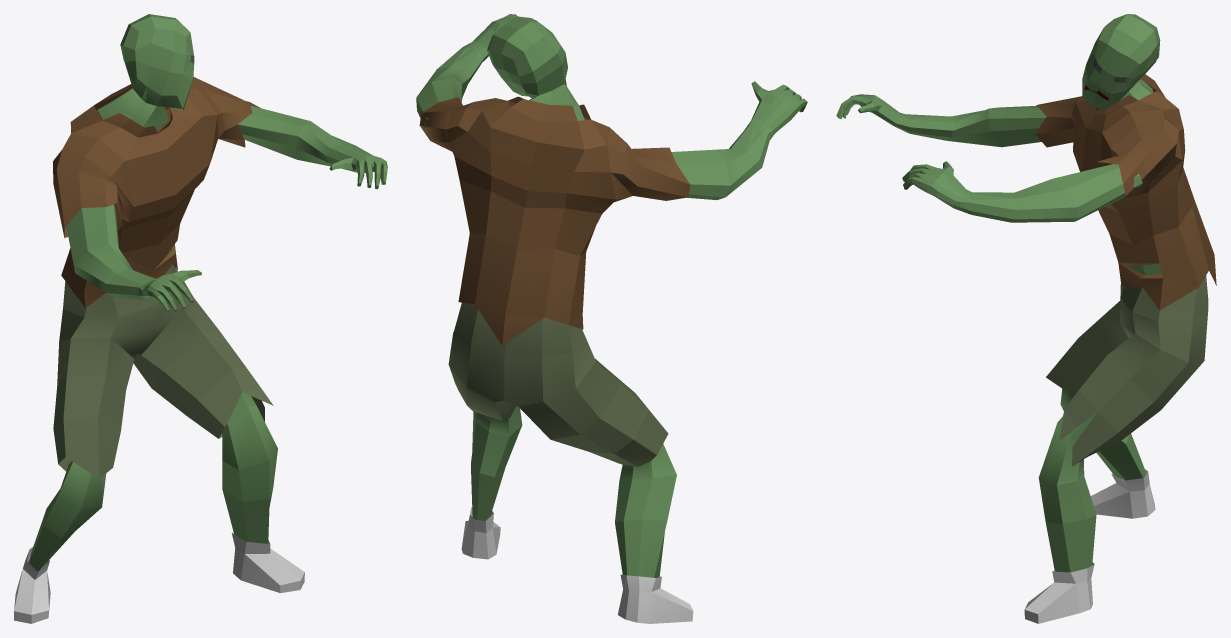
The model's file is ZombieAttack(89).obj.
The picture shows the model from 3 angles, left to right: view 1: azimuth 30°, elevation 25°; view 2: azimuth 150°, elevation 25°; view 3: azimuth 270°, elevation 25°; orthographic projection. The views are drawn at different scales.
Visible parts, largest first — view 1: Object001; view 2: Object001; view 3: Object001.
Boxes of the visible parts, left/top/right/bottom form: Object001: left=14, top=14, right=387, bottom=623; Object001: left=416, top=14, right=807, bottom=623; Object001: left=836, top=14, right=1216, bottom=623.
Bounding box in the file's own units: 30.49 × 54.63 × 33.72.
